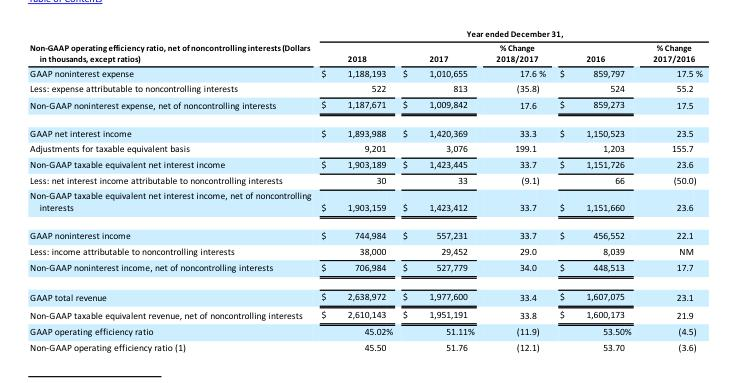table: (29, 29, 701, 352)
table column: (29, 29, 315, 352), (552, 29, 641, 352), (397, 29, 484, 352), (315, 29, 397, 352), (484, 29, 552, 352), (641, 29, 701, 352)
table column header: (29, 29, 701, 65)
table row: (29, 188, 701, 221), (29, 40, 701, 65), (29, 282, 701, 306), (29, 96, 701, 119), (29, 259, 701, 282), (29, 119, 701, 141), (29, 221, 701, 243), (29, 306, 701, 323), (29, 65, 701, 81), (29, 156, 701, 172), (29, 172, 701, 188), (29, 243, 701, 259), (29, 323, 701, 339), (29, 81, 701, 96), (29, 141, 701, 156), (29, 339, 701, 352), (29, 29, 701, 40)
table spanning cell: (29, 29, 315, 65), (315, 29, 701, 40)
